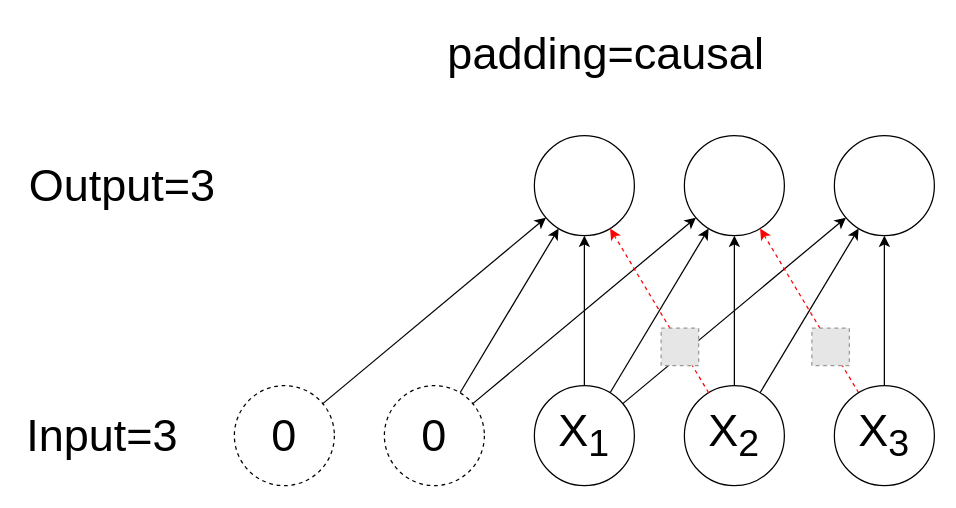
This 956x508 diagram has some shape labels left out. Grey dashed boxes stand in for pictures. The centre of each missing label's shape, as x and y in pixels:
Y 1: point 583,185
Y 2: point 733,185
Y 3: point 883,185
